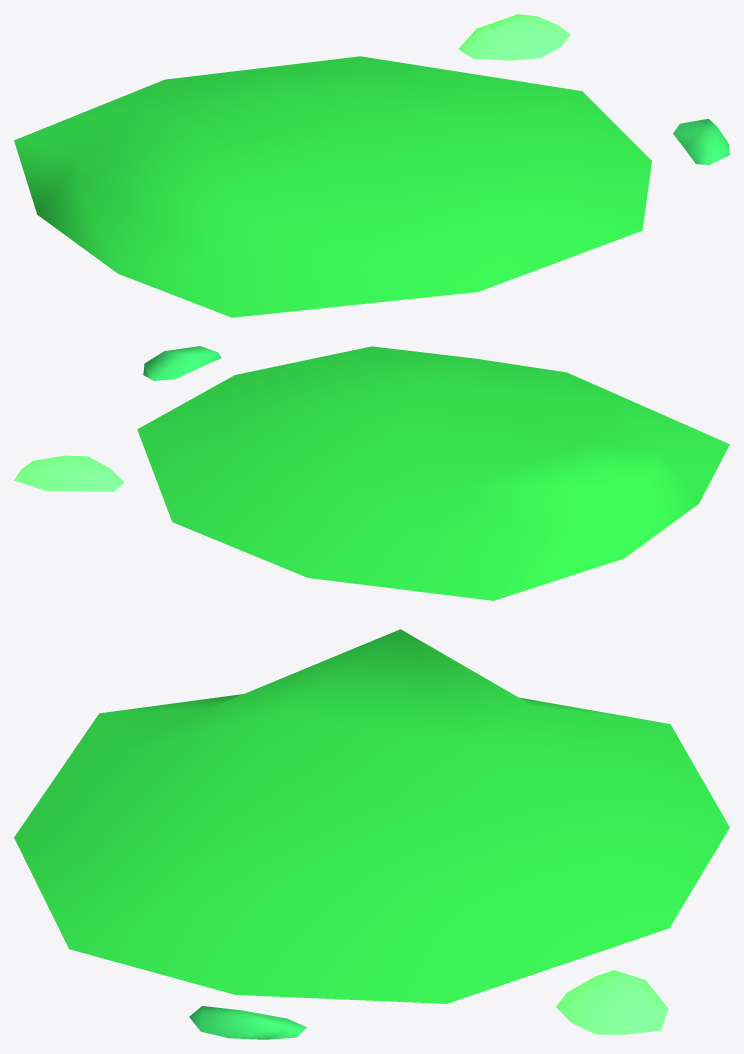
The model's file is SM_barrel_spilt_goo.fbx.
3 renders of one model, top to bottom at view 1: azimuth 30°, elevation 25°; view 2: azimuth 150°, elevation 25°; view 3: azimuth 270°, elevation 25°, orthographic. The views are drawn at different scales.
Visible parts, largest first — view 1: goo; view 2: goo; view 3: goo.
Boxes of the visible parts, x1,y1,x2,y2 form: goo: (14, 14, 729, 317); goo: (14, 346, 729, 600); goo: (14, 629, 729, 1039).
Bounding box in the file's own units: 114 × 10.06 × 98.13.
